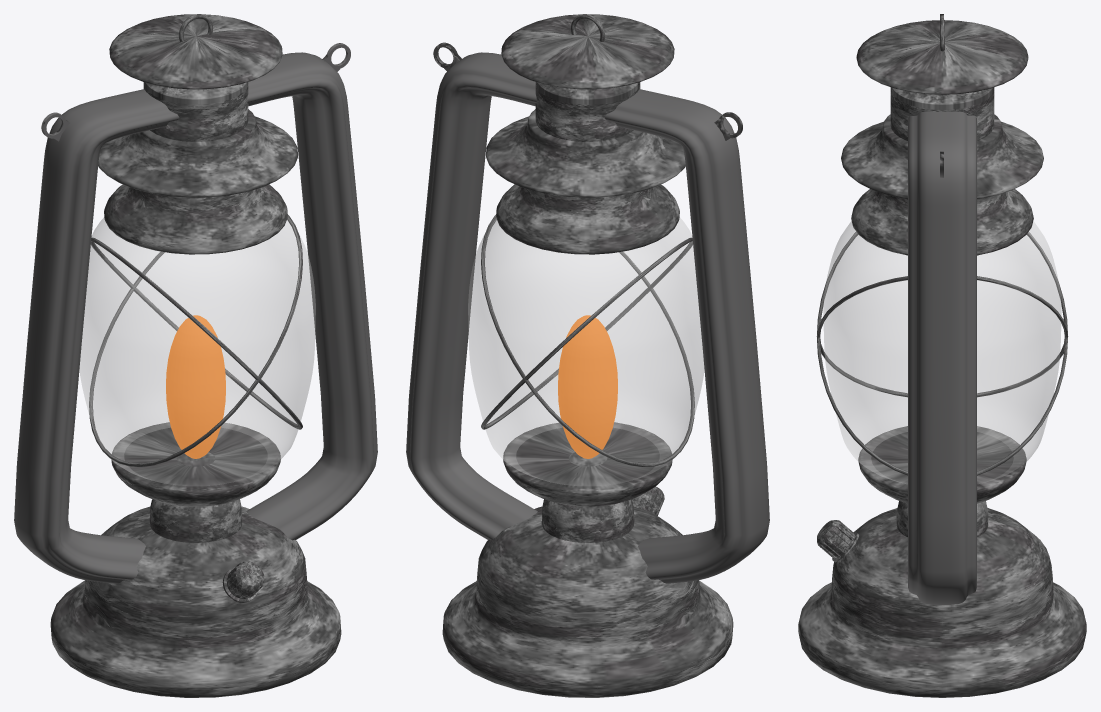
File: lantern.glb
The picture shows the model from 3 angles, left to right: view 1: azimuth 30°, elevation 25°; view 2: azimuth 150°, elevation 25°; view 3: azimuth 270°, elevation 25°; orthographic projection.
Visible parts, largest first — view 1: Cylinder, Plane, Cylinder.002, Sphere, Torus, Cylinder.001, Circle; view 2: Cylinder, Plane, Cylinder.002, Sphere, Torus, Circle, Cylinder.001; view 3: Cylinder, Cylinder.002, Plane, Torus, Cylinder.001.
Part boxes in pixels (x1=…): Cylinder: x1=50, y1=14, x2=341, y2=697; Plane: x1=14, y1=52, x2=377, y2=583; Cylinder.002: x1=79, y1=218, x2=315, y2=485; Sphere: x1=166, y1=315, x2=225, y2=458; Torus: x1=89, y1=215, x2=302, y2=466; Cylinder.001: x1=222, y1=561, x2=264, y2=602; Circle: x1=41, y1=43, x2=350, y2=141; Cylinder: x1=442, y1=14, x2=733, y2=697; Plane: x1=406, y1=52, x2=769, y2=583; Cylinder.002: x1=468, y1=218, x2=704, y2=485; Sphere: x1=558, y1=315, x2=617, y2=458; Torus: x1=481, y1=215, x2=694, y2=466; Circle: x1=433, y1=42, x2=742, y2=140; Cylinder.001: x1=631, y1=486, x2=664, y2=515; Cylinder: x1=798, y1=20, x2=1086, y2=697; Cylinder.002: x1=823, y1=221, x2=1061, y2=483; Plane: x1=908, y1=111, x2=976, y2=604; Torus: x1=816, y1=232, x2=1068, y2=475; Cylinder.001: x1=817, y1=520, x2=858, y2=562.
Bounding box in the file's own units: 2.68 × 4.6 × 1.95.
3 materials, 1 textured.
